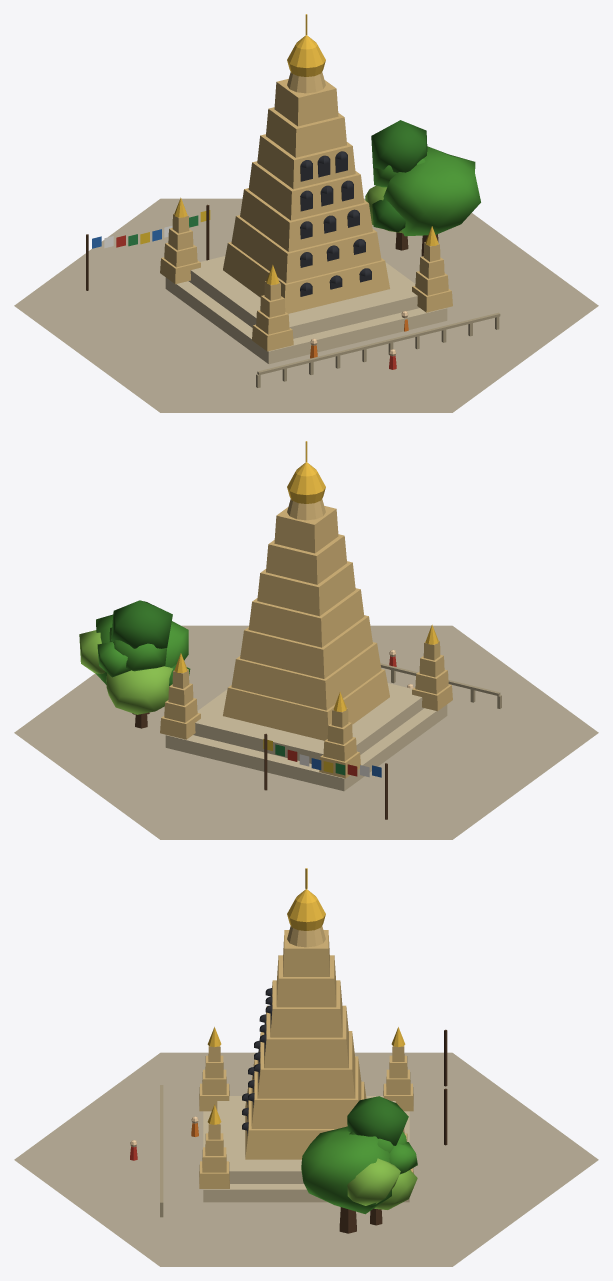
File: wonder_mahabodhi_temple.fbx
3 renders of one model, top to bottom at view 1: azimuth 30°, elevation 25°; view 2: azimuth 150°, elevation 25°; view 3: azimuth 270°, elevation 25°, orthographic.
Parts seen in each view (by area): view 1: wonder_mahabodhi_temple; view 2: wonder_mahabodhi_temple; view 3: wonder_mahabodhi_temple.
Boxes of the visible parts, left/top/right/bottom form: wonder_mahabodhi_temple: left=14, top=14, right=598, bottom=412; wonder_mahabodhi_temple: left=14, top=441, right=598, bottom=839; wonder_mahabodhi_temple: left=14, top=868, right=598, bottom=1266.
Size of the model in its own units: 182 by 115 by 210.
